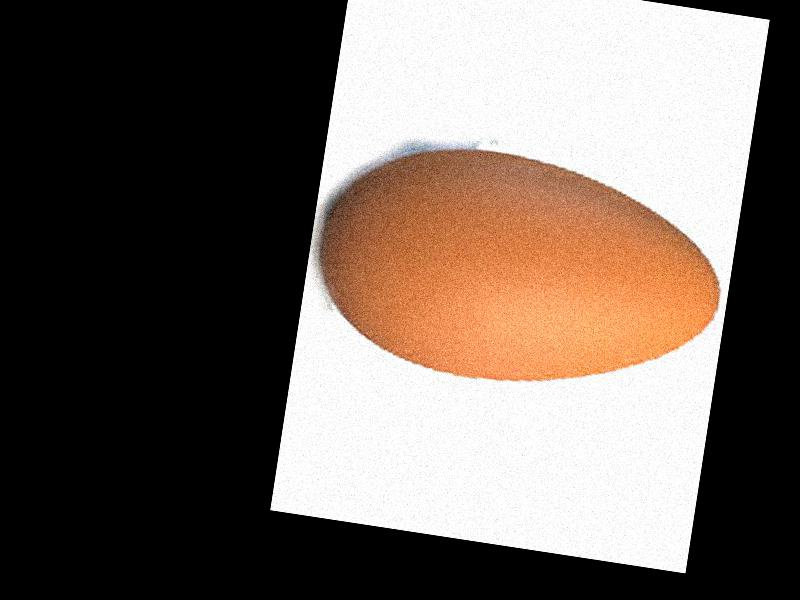Eggs: (303, 129, 733, 412)
